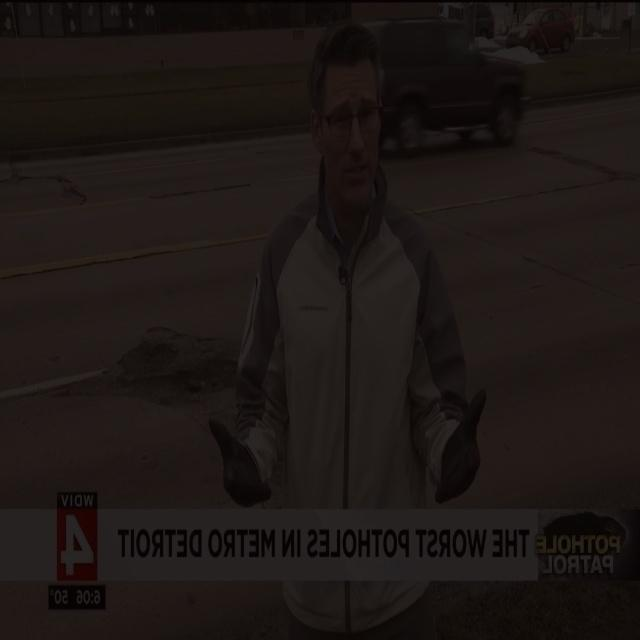Pothole: (61, 321, 241, 405)
